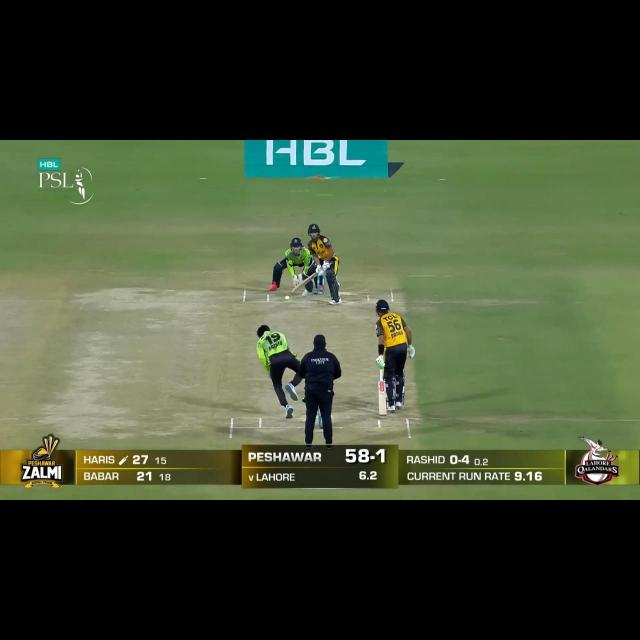bat: (291, 273, 317, 294), (378, 381, 386, 416)
toe: (378, 406, 388, 415), (291, 286, 299, 294)
